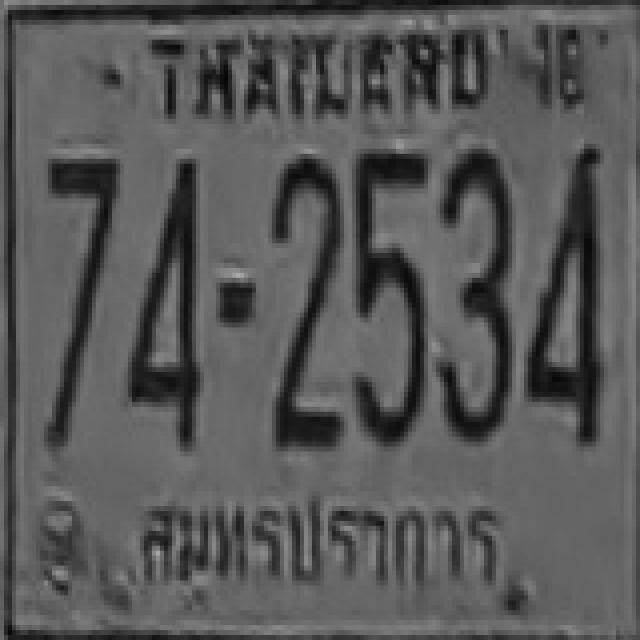2: (268, 152, 340, 400), (268, 152, 340, 380), (438, 149, 510, 362), (270, 221, 338, 444)
3: (434, 146, 510, 439)
4: (524, 139, 600, 441), (122, 156, 198, 444)
7: (44, 154, 116, 332)
SamutPrakan: (118, 473, 508, 611)
